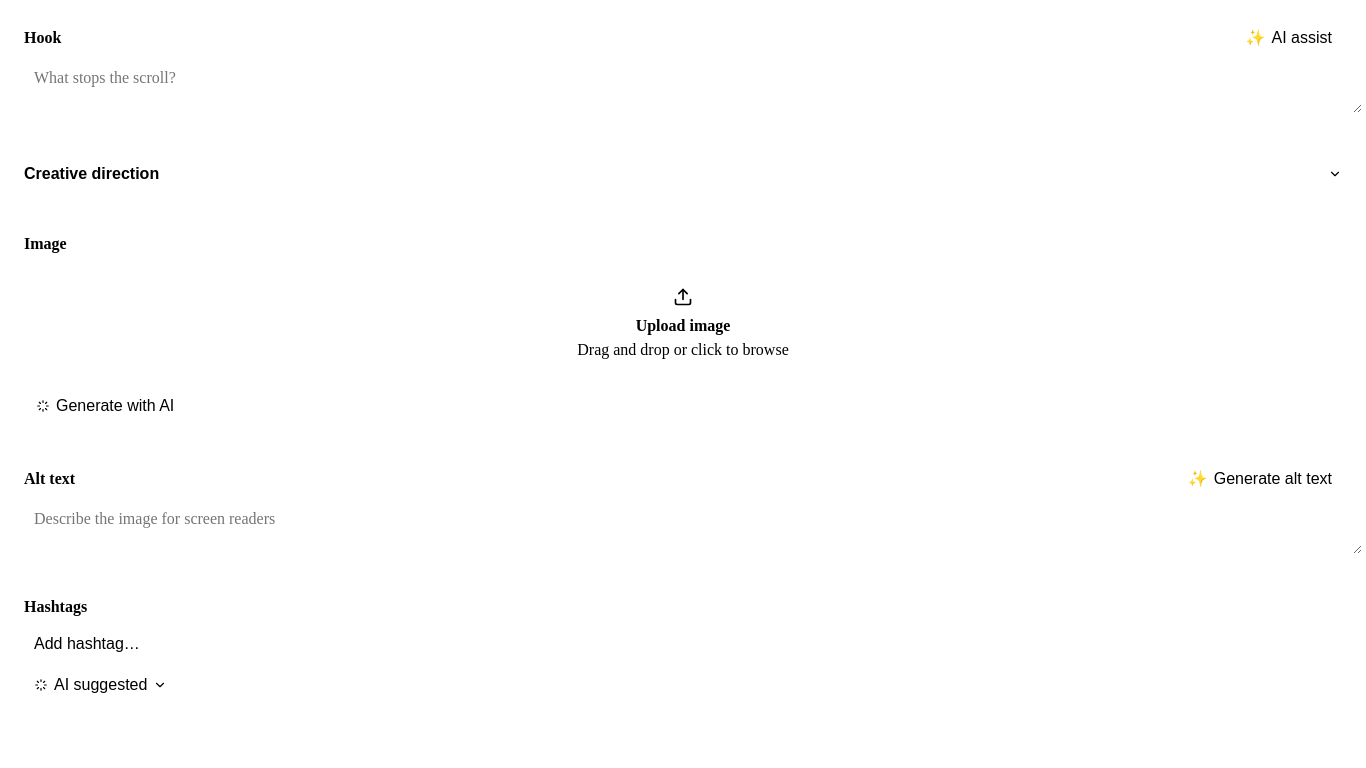
it: ImageSingleBuilderComponent › Creative direction toggle expands the panel
Click the button with class "collapse-toggle" at [92, 174], box [24,157,1342,191]
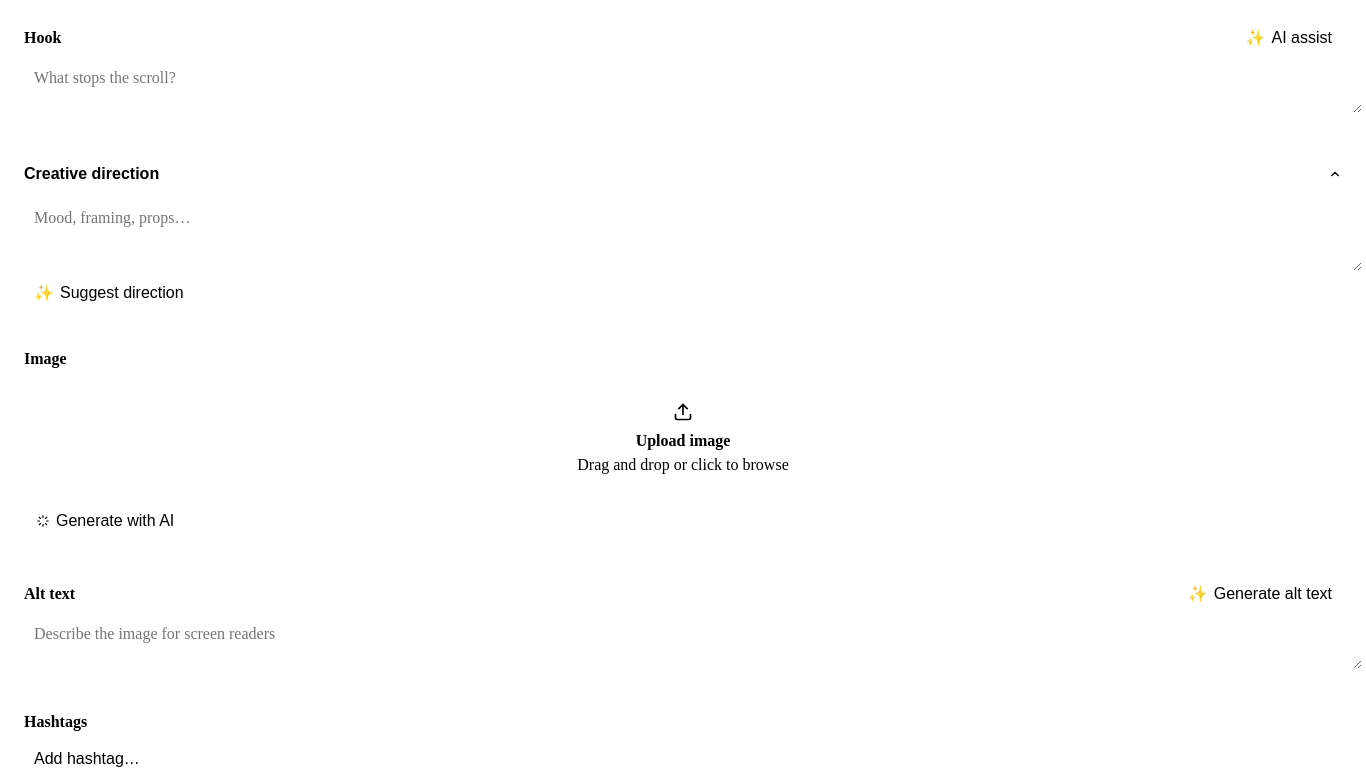
expect the button with class "collapse-toggle" is expanded: met, box [24,157,1342,191]
expect the element with id "img-creative-panel" is shown: met, box [24,201,1342,306]
